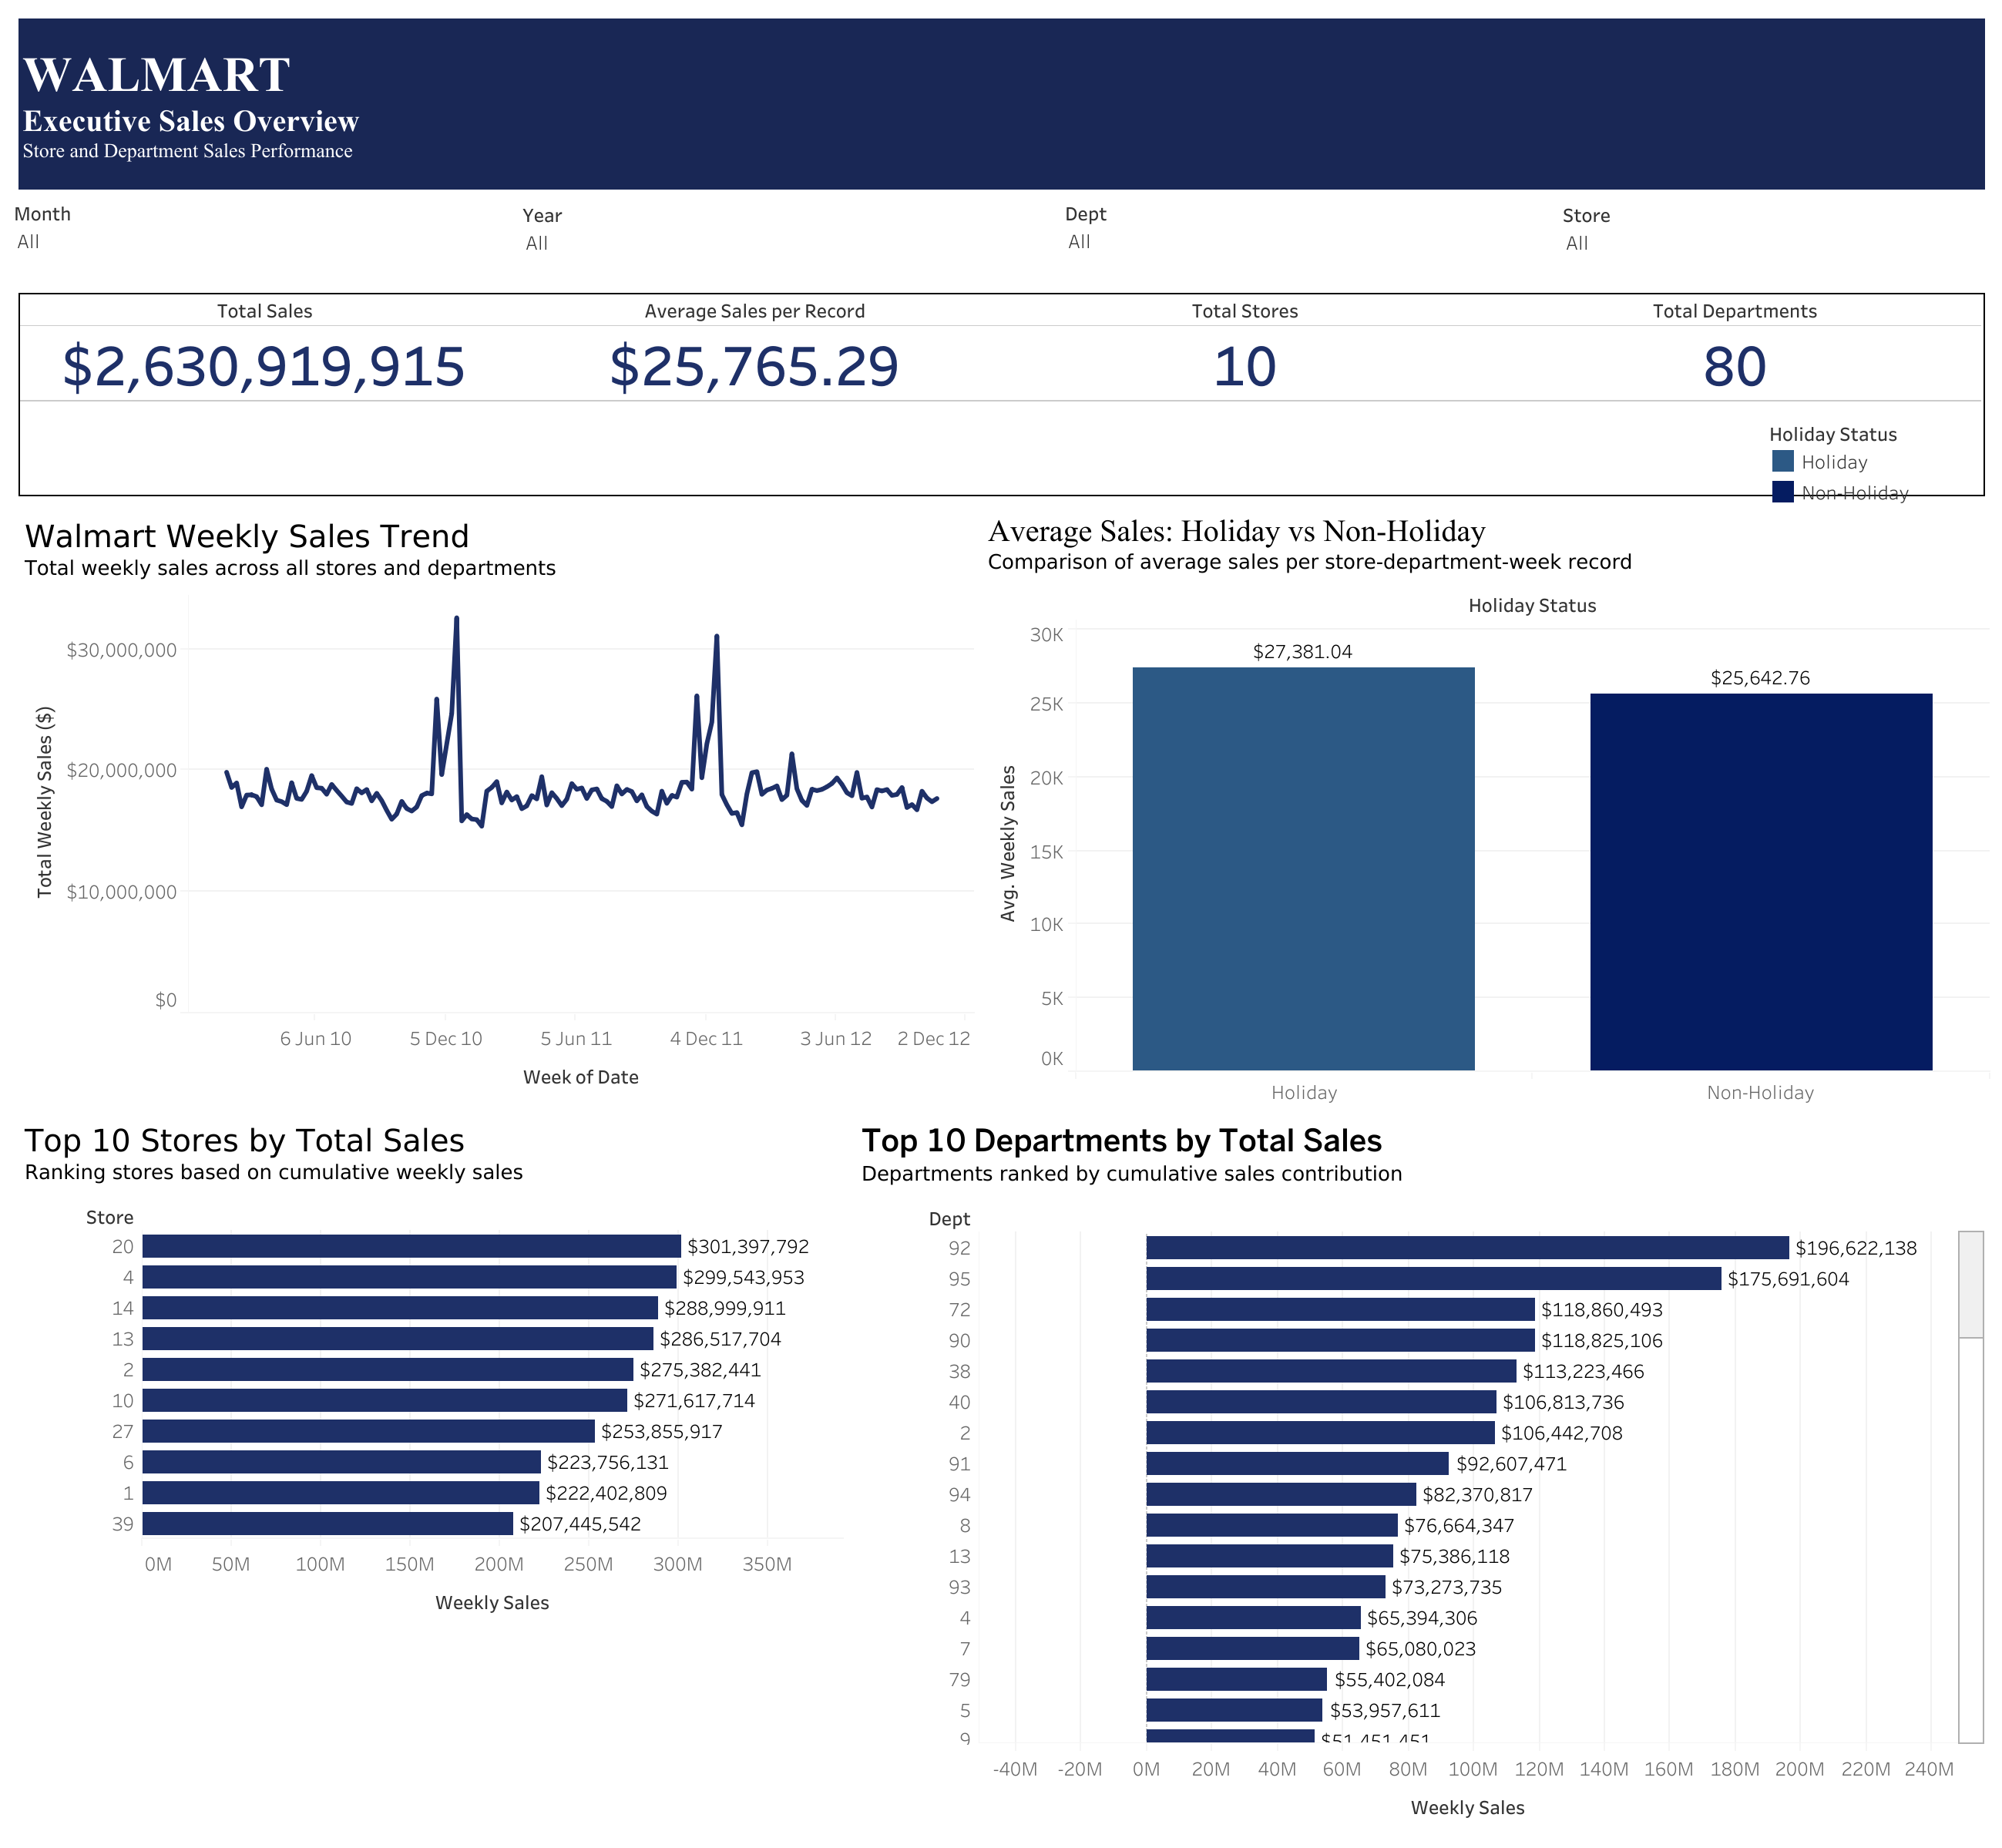

This screenshot's page, from the dashboard's own definition file:
{"tool":"tableau","page":{"name":"Dashboard 1 - Executive Overview","canvas":[1300,1200],"ordinal":0},"visuals":[{"type":"text","box":[8,8,1284,118.5]},{"type":"filter","title":"KPI - Overview","param":"[federated.1agj3eh0mi5gkq17fmx2r0knmoc0].[none:Month:ok]","box":[8,126.5,331,59.3]},{"type":"filter","title":"KPI - Overview","param":"[federated.1agj3eh0mi5gkq17fmx2r0knmoc0].[none:Year:ok]","box":[339,126.5,351,59.3]},{"type":"filter","title":"KPI - Overview","param":"[federated.1agj3eh0mi5gkq17fmx2r0knmoc0].[none:Dept:ok]","box":[690,126.5,324,59.3]},{"type":"filter","title":"KPI - Overview","param":"[federated.1agj3eh0mi5gkq17fmx2r0knmoc0].[none:Store:ok]","box":[1014,126.5,278,59.3]},{"type":"worksheet","title":"KPI - Overview","mark":"Automatic","box":[8,185.8,1284,139.8]},{"type":"legend","title":"Next chart: Holiday Comparison","param":"[federated.1agj3eh0mi5gkq17fmx2r0knmoc0].[none:Calculation_242842601342083072:nk","box":[1147,270.3,110,78.3]},{"type":"worksheet","title":"Chart - Weekly Sales Trend","mark":"Line","rows":["Weekly_Sales"],"cols":["Date"],"box":[8,325.7,628,392.2]},{"type":"worksheet","title":"Next chart: Holiday Comparison","mark":"Bar","rows":["Weekly_Sales"],"cols":["Calculation_242842601342083072"],"box":[636,325.7,656,392.2]},{"type":"worksheet","title":"Chart - Top 10 Stores","mark":"Bar","rows":["Store"],"cols":["Weekly_Sales"],"box":[8,717.9,543.4,474.1]},{"type":"worksheet","title":"Chart - Top 10 Departments","mark":"Automatic","rows":["Dept"],"cols":["Weekly_Sales"],"box":[551.4,717.9,740.6,474.1]}]}

Visuals, with their boxes in screenshot pixels (x1, y1, x2, y2), scaled from the page's 1300x1200 canvas onto the 2002x1848 screenshot:
text: [12, 12, 1990, 195]
"KPI - Overview" filter: [12, 195, 522, 286]
"KPI - Overview" filter: [522, 195, 1063, 286]
"KPI - Overview" filter: [1063, 195, 1561, 286]
"KPI - Overview" filter: [1561, 195, 1990, 286]
"KPI - Overview" worksheet: [12, 286, 1990, 502]
"Next chart: Holiday Comparison" legend: [1766, 416, 1936, 537]
"Chart - Weekly Sales Trend" worksheet (Line marks): [12, 502, 979, 1106]
"Next chart: Holiday Comparison" worksheet (Bar marks): [979, 502, 1990, 1106]
"Chart - Top 10 Stores" worksheet (Bar marks): [12, 1106, 849, 1836]
"Chart - Top 10 Departments" worksheet: [849, 1106, 1990, 1836]
